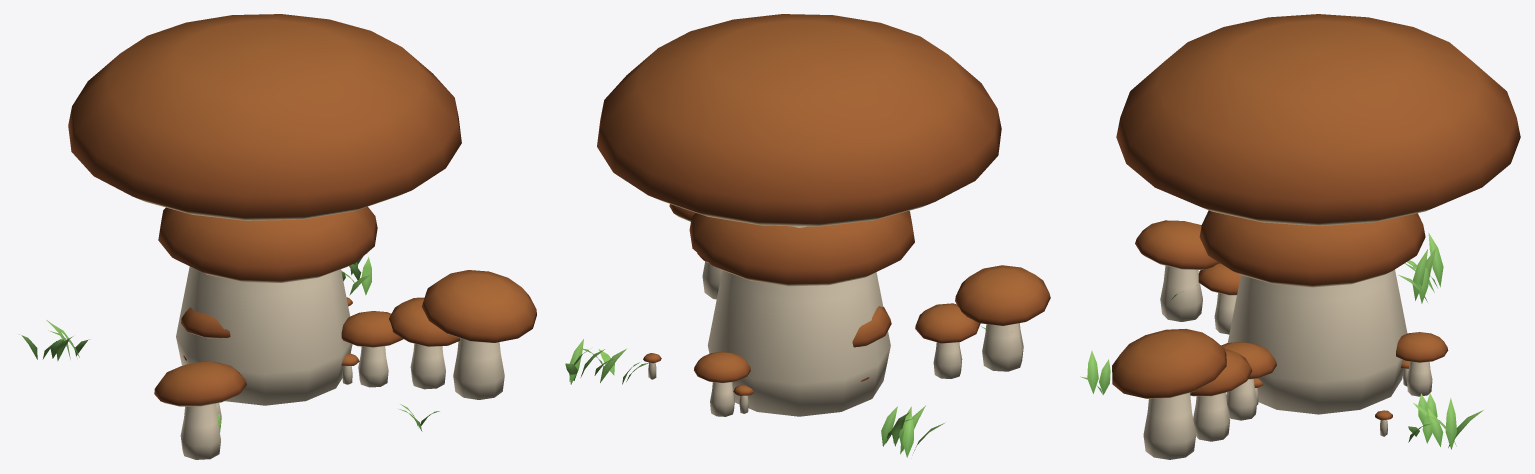
Rendered from crop_giant-mushroom.glb.
3 views of the same model, side by side, from view 1: azimuth 30°, elevation 25°; view 2: azimuth 150°, elevation 25°; view 3: azimuth 270°, elevation 25° (orthographic). The views are drawn at different scales.
Visible parts, largest first — view 1: stage3, stage2, stage1; view 2: stage3, stage2, stage1, stage0; view 3: stage3, stage2, stage1, stage0.
Part boxes in pixels (left/top/right/bottom): stage3: left=19, top=14, right=536, bottom=459; stage2: left=46, top=206, right=459, bottom=426; stage1: left=181, top=257, right=403, bottom=432; stage3: left=565, top=14, right=1050, bottom=457; stage2: left=600, top=211, right=980, bottom=446; stage1: left=582, top=306, right=985, bottom=416; stage0: left=643, top=353, right=869, bottom=413; stage3: left=1080, top=14, right=1520, bottom=459; stage2: left=1190, top=210, right=1437, bottom=441; stage1: left=1170, top=291, right=1448, bottom=443; stage0: left=1196, top=285, right=1409, bottom=436.
Bounding box in the file's own units: 1.12 × 0.8845 × 1.08.
